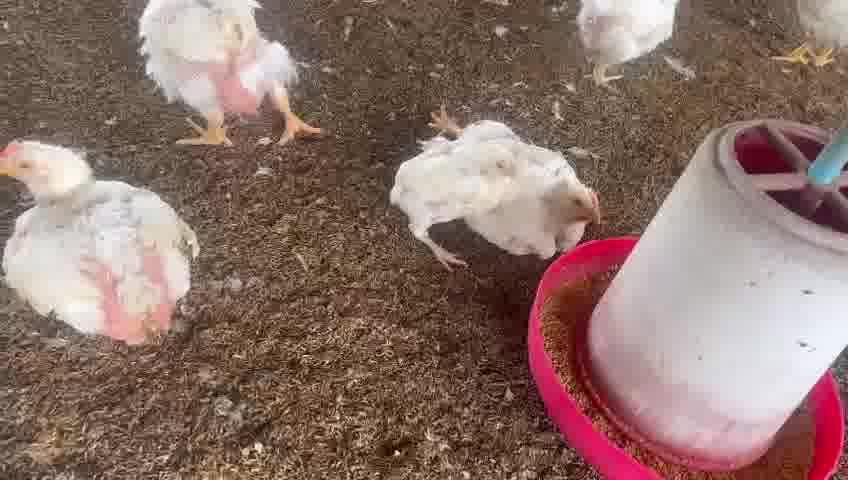AbNormal: (430, 106, 595, 249), (390, 140, 510, 272)
Normal: (0, 129, 199, 343), (125, 0, 318, 152), (574, 0, 690, 95)
